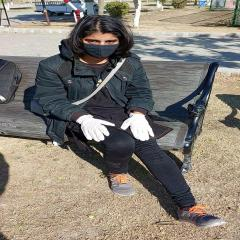gloved: (76, 114, 114, 142), (124, 113, 155, 141)
